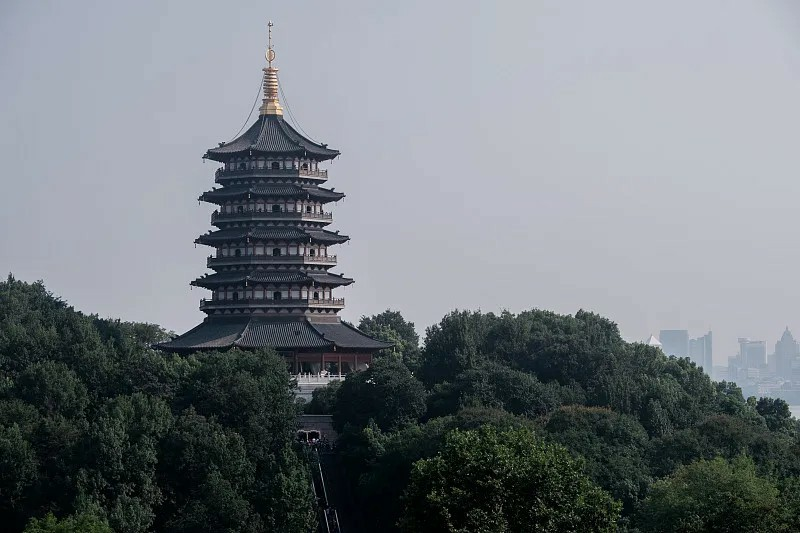Leifeng: (148, 19, 398, 381)
